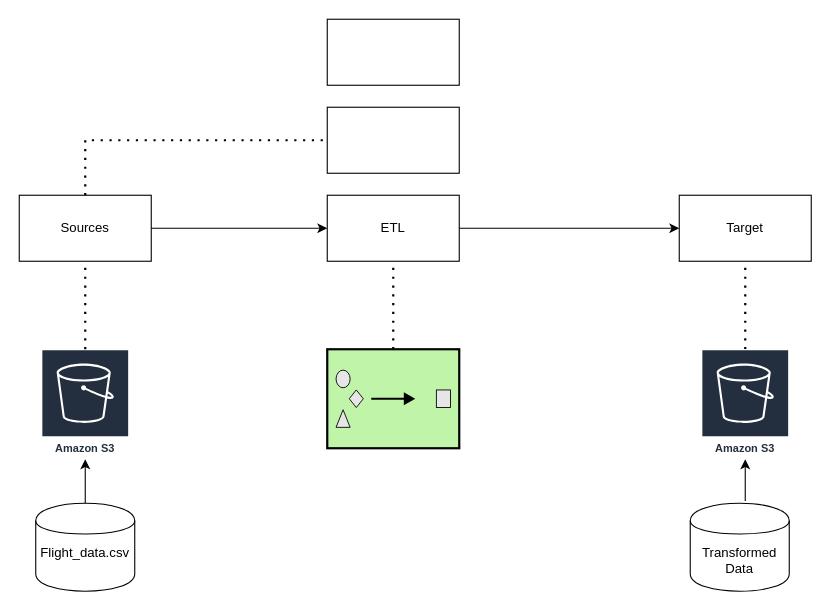
This 831x611 diagram has some shape labels left out. Here are the shapes that lost their labels. From the top down, the centre of each, then its label:
point (392, 51): Crawler
point (392, 139): Data Catalog
point (393, 398): AWS GLUE
